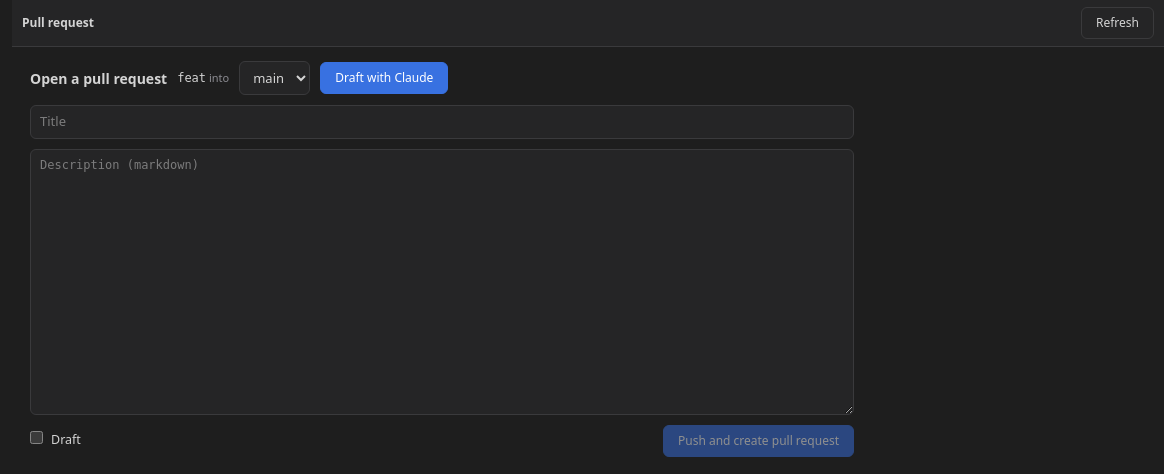
it: opening a pull request › creates it against the chosen base, then shows it
Expected: the dropdown named "Base branch" shows "main", [239,61,310,95]
Type "Add a thing" into the field labelled "Title" at (442, 122), box [30,105,854,138]
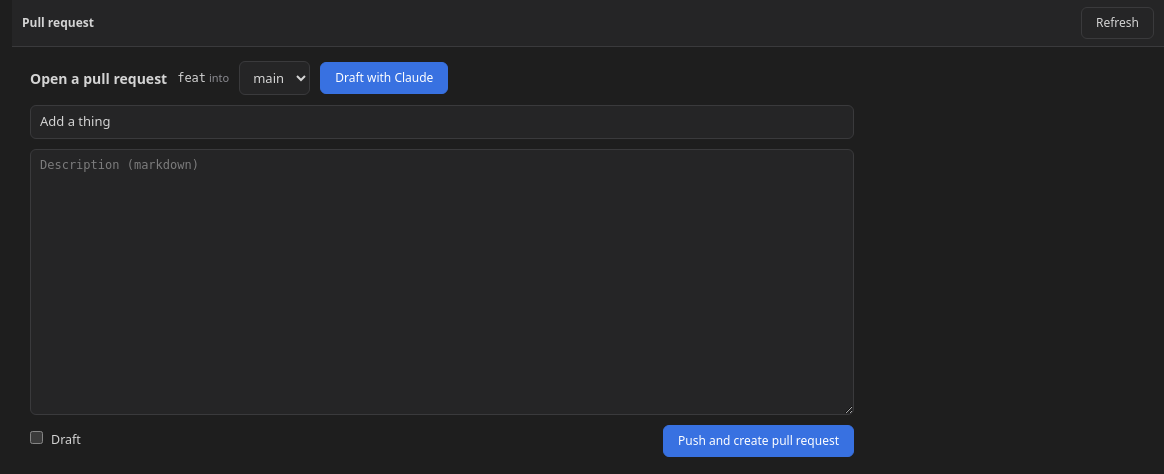
Click the button "Push and create pull request" at (758, 440), box [663,424,854,456]
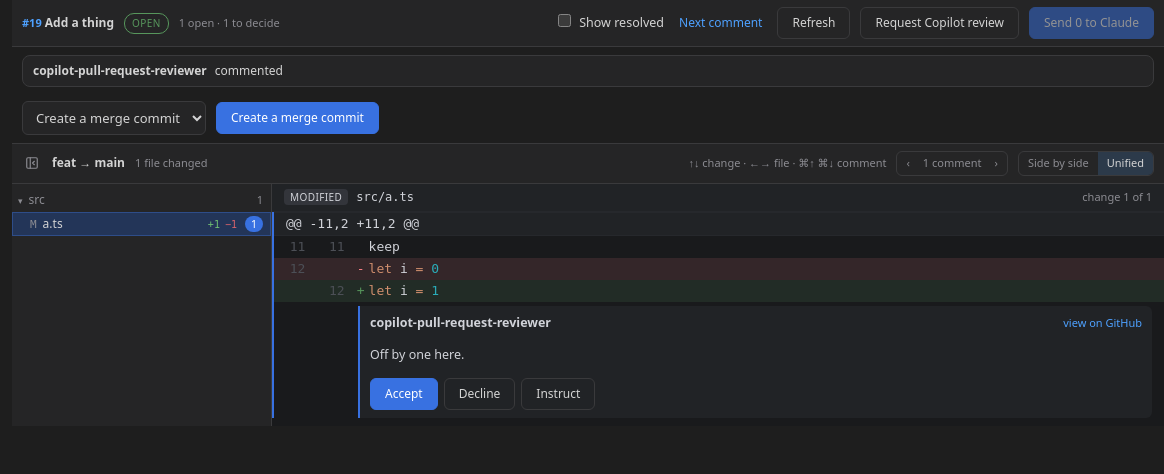
Expected: the text "Off by one here." is shown, [370,346,464,363]
Expected: the heading "Open a pull request" is gone
